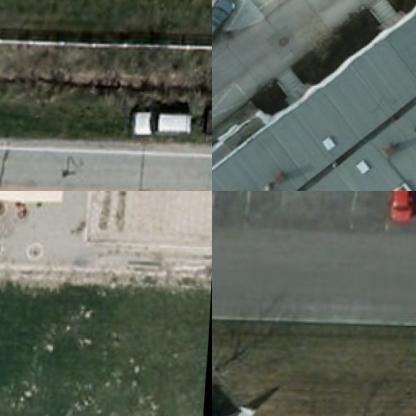car: (127, 108, 192, 137), (212, 0, 237, 44), (389, 191, 415, 218)
